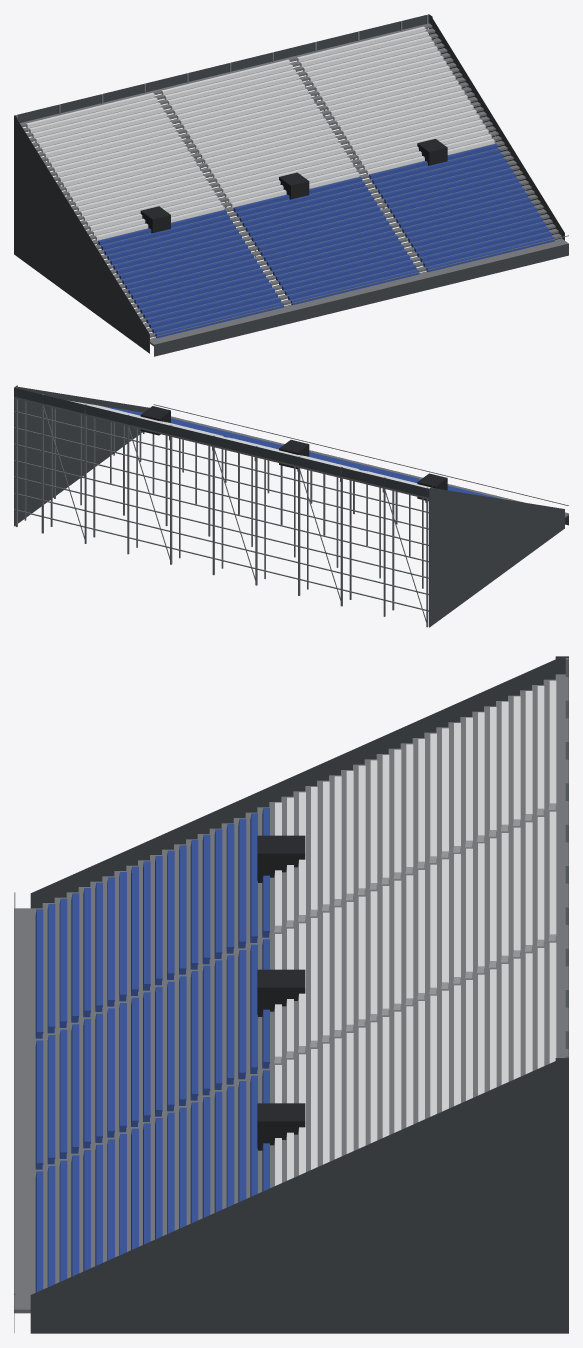
File: rbr_open_mitte_def.glb
3 views of the same model, one above another, from view 1: azimuth 30°, elevation 25°; view 2: azimuth 150°, elevation 25°; view 3: azimuth 270°, elevation 25° (orthographic). The views are drawn at different scales.
Visible parts, largest first — view 1: red-bull-ring-mitte-def; view 2: red-bull-ring-mitte-def; view 3: red-bull-ring-mitte-def.
Boxes of the visible parts, left/top/right/bottom form: red-bull-ring-mitte-def: left=14, top=14, right=568, bottom=356; red-bull-ring-mitte-def: left=14, top=385, right=568, bottom=627; red-bull-ring-mitte-def: left=14, top=656, right=568, bottom=1333.
Size of the model in its own units: 58.34 by 18.64 by 34.05.
